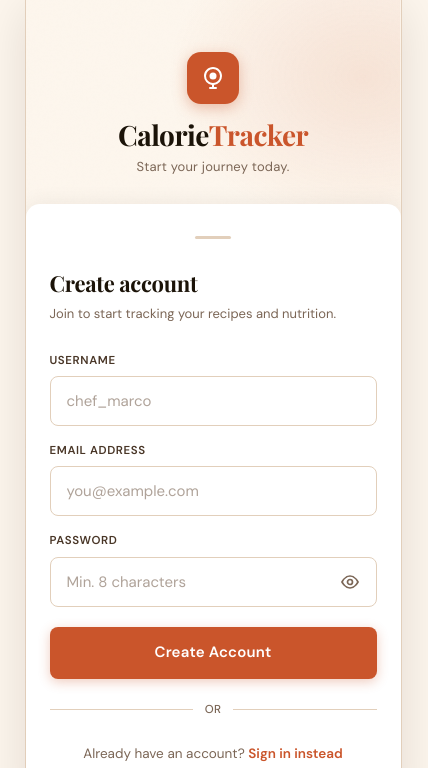
Test case: RegisterPage — server errors › shows username-taken error on duplicate username
The width and height of the screenshot is (428, 768).
Type "alice" into the field labelled "Username". click: (213, 401)
box: [50,376,376,426]
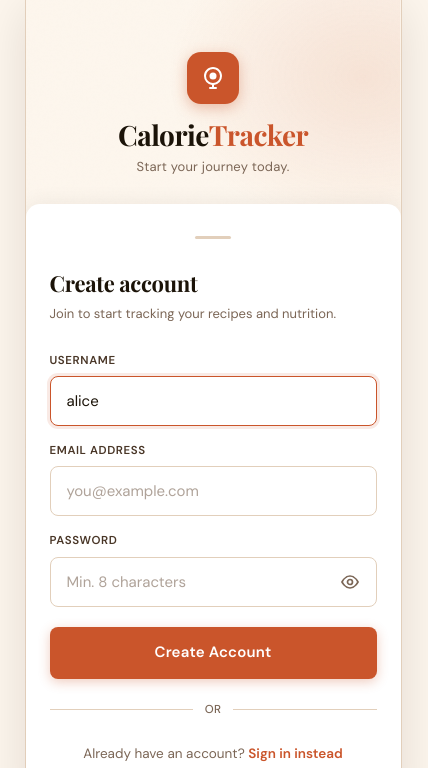
Type "alice@example.com" into the field labelled "Email address". click: (213, 491)
box: [50,466,376,516]
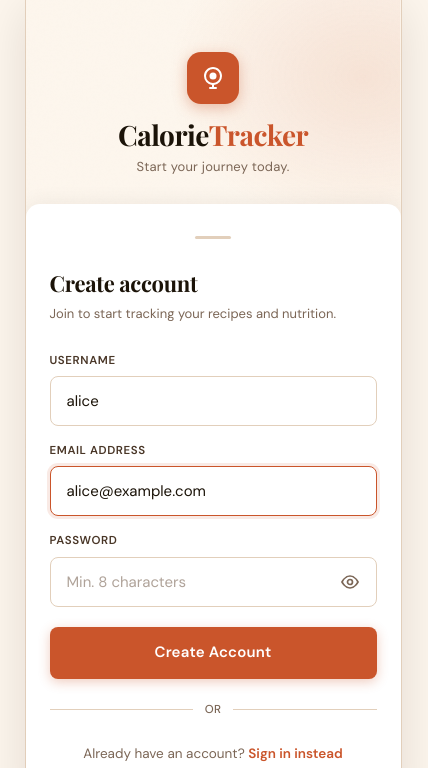
Type "password123" into the password field labelled "Password". click: (213, 582)
box: [50,556,376,606]
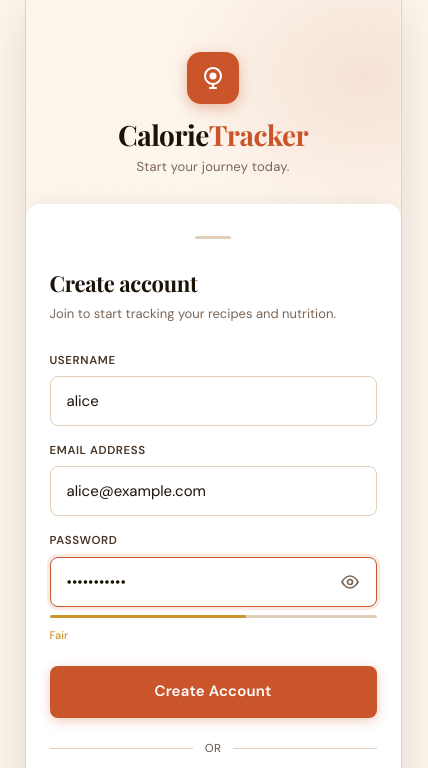
Click the button "Create Account". click: click(213, 692)
box: [50,666,376,718]
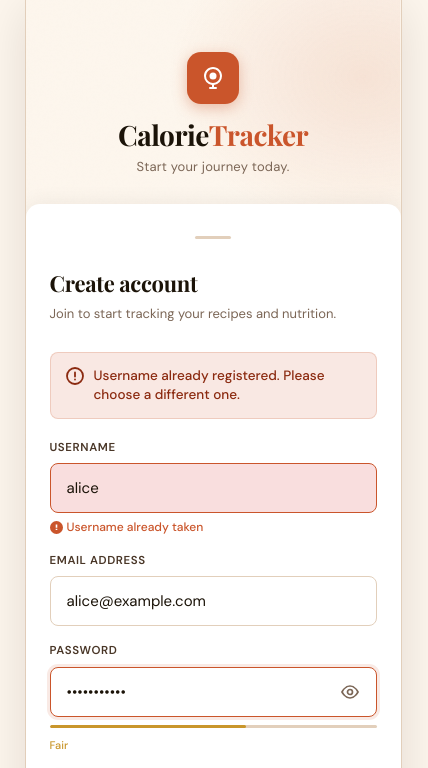
Expected: the text "Username already registered. Please choose a different one." is shown, [94,366,360,405]
Expected: the text "Username already taken" is shown, [50,519,203,535]
